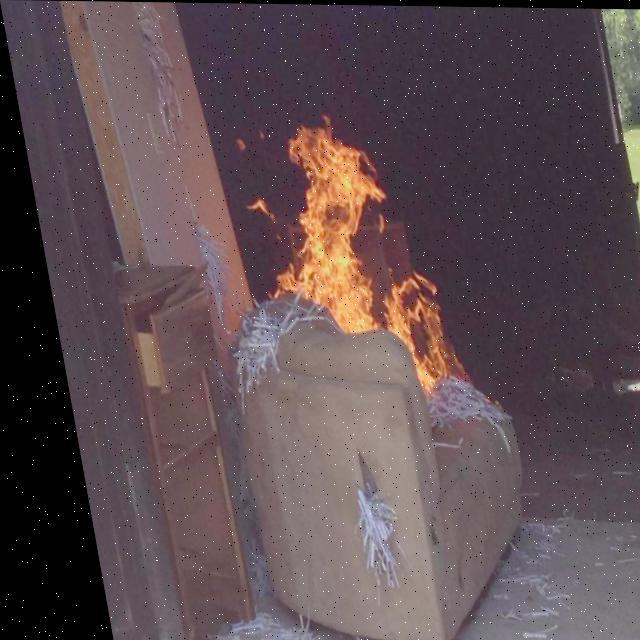Fire: (235, 110, 393, 338), (364, 260, 464, 399)
